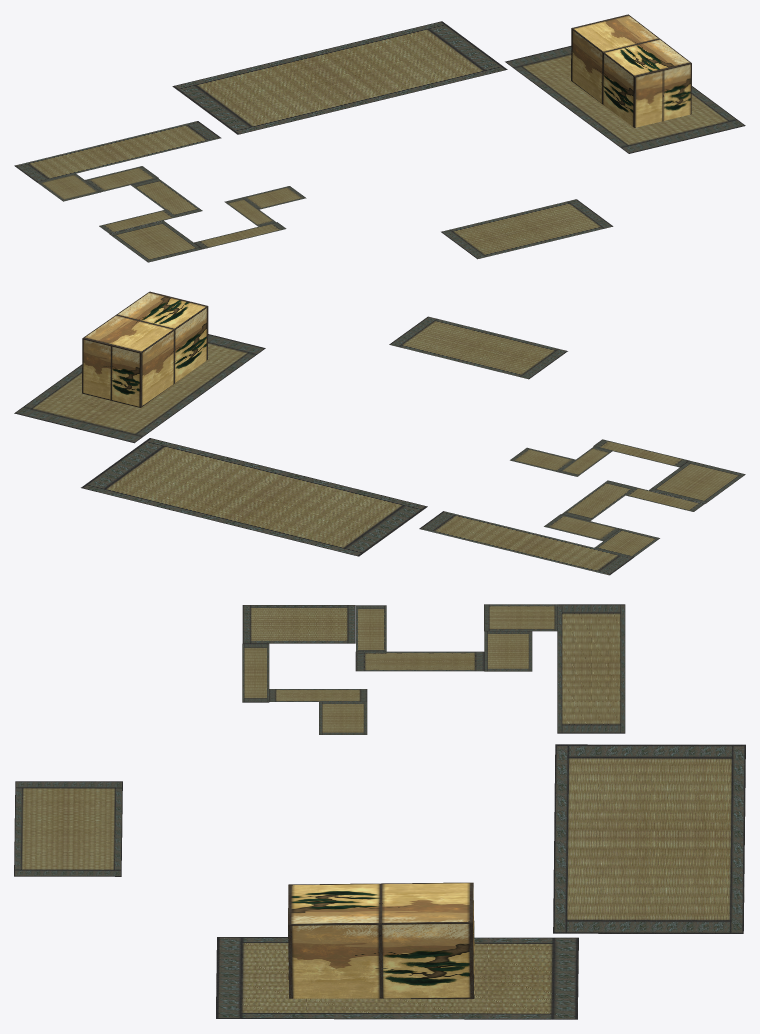
The model's file is Stage2second.fbx.
3 renders of one model, top to bottom at view 1: azimuth 30°, elevation 25°; view 2: azimuth 150°, elevation 25°; view 3: azimuth 270°, elevation 25°, orthographic. The views are drawn at different scales.
Parts seen in each view (by area): view 1: Box (×13); view 2: Box (×13); view 3: Box (×13).
Part boxes in pixels (x1=…): Box (×13): x1=14, y1=14, x2=745, y2=262; Box (×13): x1=14, y1=291, x2=745, y2=575; Box (×13): x1=14, y1=604, x2=745, y2=1019.
Size of the model in its own units: 1306 by 116 by 972.
